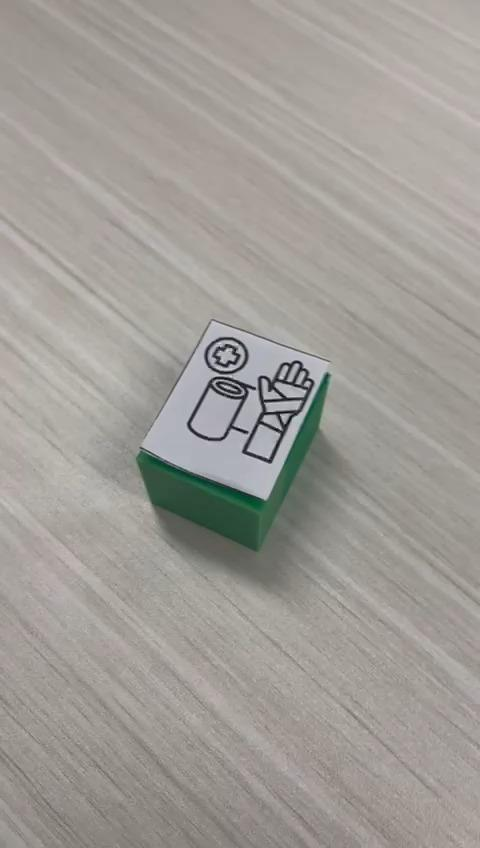Bandages: (135, 319, 331, 552)
